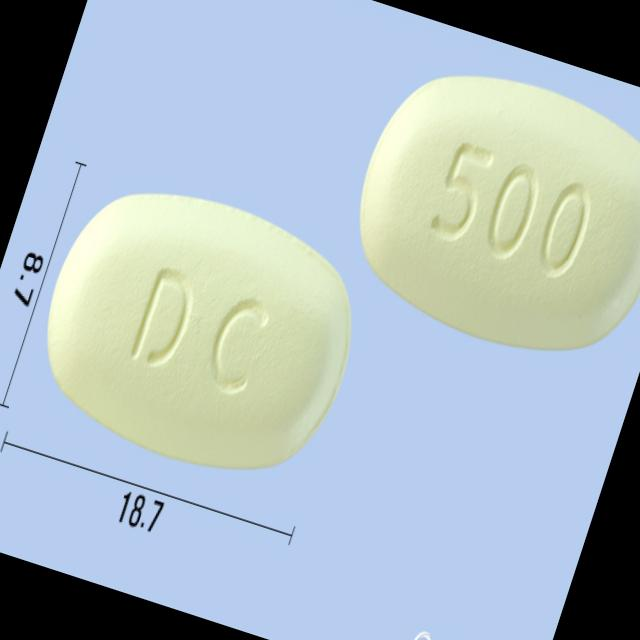Clavix: (12, 154, 390, 512), (323, 35, 640, 389)
